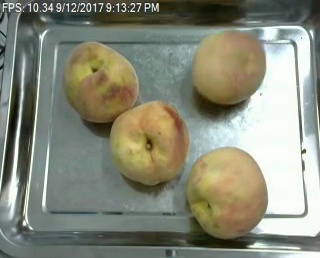Peach: (186, 145, 268, 239), (109, 99, 189, 186), (62, 39, 139, 123), (192, 29, 266, 105)
